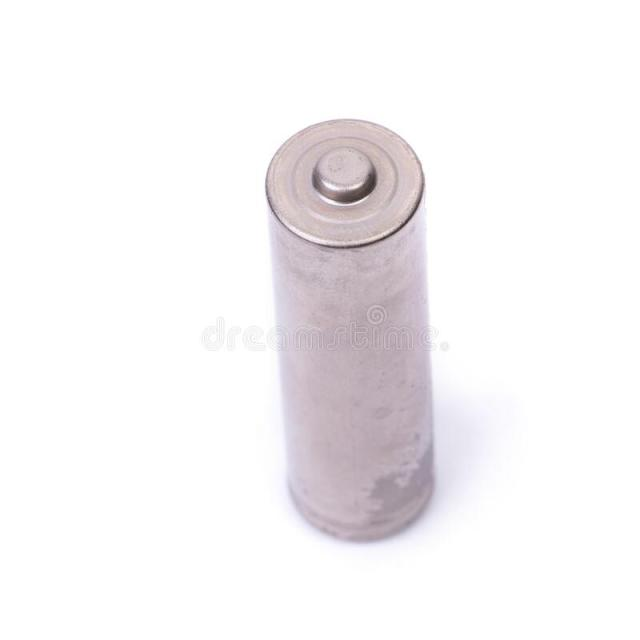Hazard: (259, 128, 447, 516)
